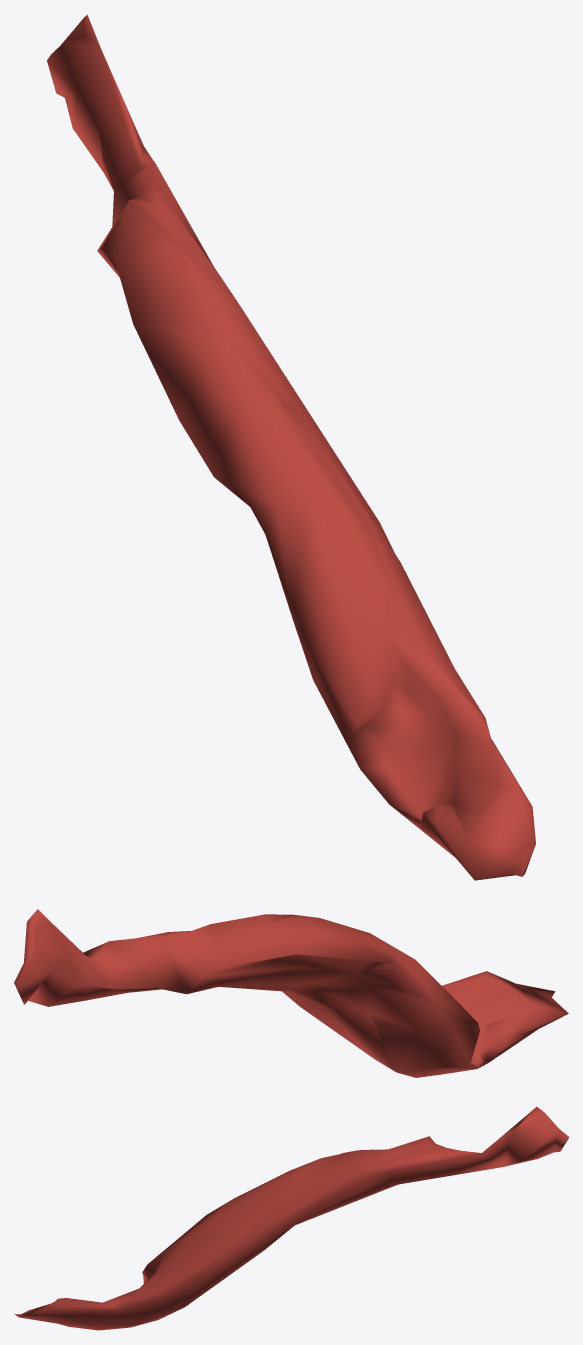
Rendered from musculos-medial-head-of-flexor-hallucis-brevis-r.glb.
3 views of the same model, one above another, from view 1: azimuth 30°, elevation 25°; view 2: azimuth 150°, elevation 25°; view 3: azimuth 270°, elevation 25° (orthographic). The views are drawn at different scales.
Visible parts, largest first — view 1: Medial head of flexor hallucis brevis.r; view 2: Medial head of flexor hallucis brevis.r; view 3: Medial head of flexor hallucis brevis.r.
Part boxes in pixels (x1,y1,x2,y2): Medial head of flexor hallucis brevis.r: (47,14,535,880); Medial head of flexor hallucis brevis.r: (14,909,568,1077); Medial head of flexor hallucis brevis.r: (14,1106,568,1330).
Size of the model in its own units: 0.013 by 0.0398 by 0.0829.
